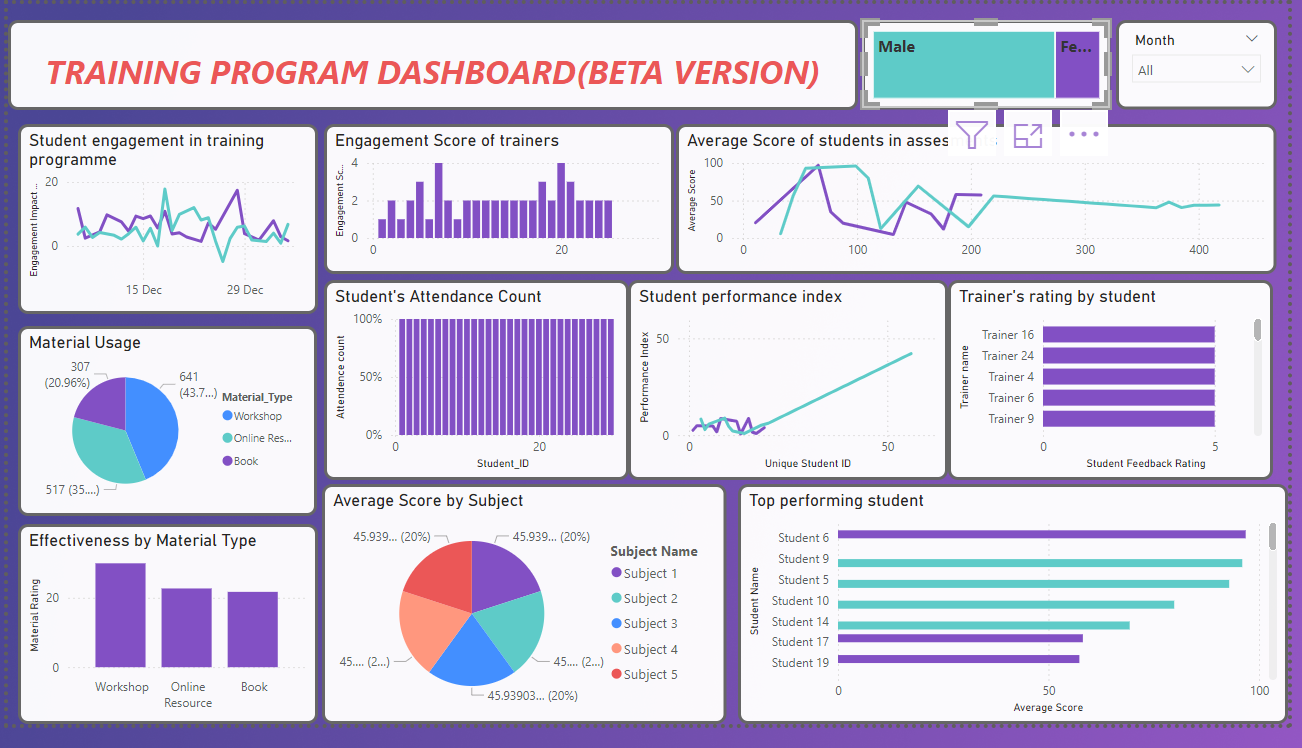

The page's visual inventory and layout, read from the dashboard file:
{"tool":"powerbi","page":{"name":"Page 1","canvas":[1280,720],"ordinal":0},"visuals":[{"type":"hundredPercentStackedColumnChart","title":"Student''s Attendance Count ","fields":{"Category":["trainingprogramdb students.Student_ID"],"Y":["trainingprogramdb attendance.Attendance_Status"]},"box":[315.5,275,304.8,200],"z":0},{"type":"textbox","box":[0,15.2,850,90],"z":1000},{"type":"pieChart","title":"Material Usage","fields":{"Category":["trainingprogramdb material_usage.Material_Type"],"Y":["trainingprogramdb material_usage.Usage_Percentage"]},"box":[10.6,321.5,298.8,190],"z":2000},{"type":"clusteredColumnChart","title":"Effectiveness by Material Type","fields":{"Y":["trainingprogramdb material_usage.Effectiveness_Score"],"Category":["trainingprogramdb material_usage.Material_Type"]},"box":[10,520.2,300,200.2],"z":3000},{"type":"clusteredColumnChart","title":"Engagement Score of trainers","fields":{"Category":["trainingprogramdb method_effectiveness.Trainer_ID"],"Y":["trainingprogramdb method_effectiveness.Engagement_Score"]},"box":[315,120,350,150],"z":4000},{"type":"lineChart","title":"Student engagement in training programme","fields":{"Y":["trainingprogramdb attendance.Engagement_Impact"],"Series":["trainingprogramdb students.Gender"],"Category":["trainingprogramdb attendance.Date.Variation.Date Hierarchy.Year","trainingprogramdb attendance.Date.Variation.Date Hierarchy.Quarter","trainingprogramdb attendance.Date.Variation.Date Hierarchy.Month","trainingprogramdb attendance.Date.Variation.Date Hierarchy.Day"]},"box":[10,120,300,190],"z":5000},{"type":"clusteredBarChart","title":"Trainer''s rating by student","fields":{"Category":["trainingprogramdb trainers.Name"],"Y":["trainingprogramdb method_effectiveness.Student_Feedback_Rating"]},"box":[940,275,325,200],"z":6000},{"type":"lineChart","title":"Student performance index ","fields":{"Y":["trainingprogramdb student_performance.Custom_Performance_Index"],"Category":["trainingprogramdb student_performance.Student_ID"],"Series":["trainingprogramdb students.Gender"]},"box":[620.3,275,320,200.2],"z":7000},{"type":"pieChart","title":"Average Score by Subject","fields":{"Category":["trainingprogramdb subjects.Subject_Name"],"Y":["trainingprogramdb assessments.Score"]},"box":[314.1,480,404.6,240],"z":8000},{"type":"clusteredBarChart","title":"Top performing student","fields":{"Y":["trainingprogramdb assessments.Score"],"Category":["trainingprogramdb students.Name"],"Series":["trainingprogramdb students.Gender"]},"box":[730,480,549.9,240],"z":9000},{"type":"lineChart","title":"Average Score of students in assesments","fields":{"Category":["trainingprogramdb assessments.Assessment_ID"],"Y":["trainingprogramdb assessments.Score"],"Series":["trainingprogramdb students.Gender"]},"box":[667.3,119.8,600.6,150.1],"z":10000},{"type":"treemap","fields":{"Values":["trainingprogramdb students.Student_ID"],"Group":["trainingprogramdb students.Gender"]},"box":[853.8,15.2,248.7,89.5],"z":11000},{"type":"slicer","fields":{"Values":["trainingprogramdb attendance.Date.Variation.Date Hierarchy.Month"]},"box":[1107.1,15.2,160.8,89.5],"z":12000}]}

Visuals, with their boxes in screenshot pixels (x1, y1, x2, y2), scaled from the page's 1280x720 canvas onto the 1302x748 screenshot:
"Student''s Attendance Count " hundredPercentStackedColumnChart: {"left": 321, "top": 286, "right": 631, "bottom": 493}
textbox: {"left": 0, "top": 16, "right": 865, "bottom": 109}
"Material Usage" pieChart: {"left": 11, "top": 334, "right": 315, "bottom": 531}
"Effectiveness by Material Type" clusteredColumnChart: {"left": 10, "top": 540, "right": 315, "bottom": 747}
"Engagement Score of trainers" clusteredColumnChart: {"left": 320, "top": 125, "right": 676, "bottom": 280}
"Student engagement in training programme" lineChart: {"left": 10, "top": 125, "right": 315, "bottom": 322}
"Trainer''s rating by student" clusteredBarChart: {"left": 956, "top": 286, "right": 1287, "bottom": 493}
"Student performance index " lineChart: {"left": 631, "top": 286, "right": 956, "bottom": 494}
"Average Score by Subject" pieChart: {"left": 319, "top": 499, "right": 731, "bottom": 747}
"Top performing student" clusteredBarChart: {"left": 743, "top": 499, "right": 1301, "bottom": 747}
"Average Score of students in assesments" lineChart: {"left": 679, "top": 124, "right": 1290, "bottom": 280}
treemap - trainingprogramdb students.Student_ID x trainingprogramdb students.Gender: {"left": 868, "top": 16, "right": 1121, "bottom": 109}
slicer - trainingprogramdb attendance.Date.Variation.Date Hierarchy.Month: {"left": 1126, "top": 16, "right": 1290, "bottom": 109}
